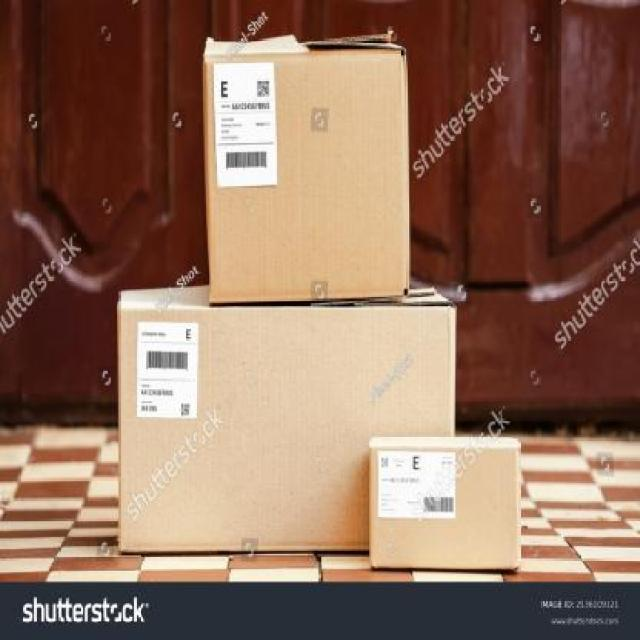BoxFace: (118, 300, 456, 552), (206, 46, 409, 306), (373, 440, 519, 568)
